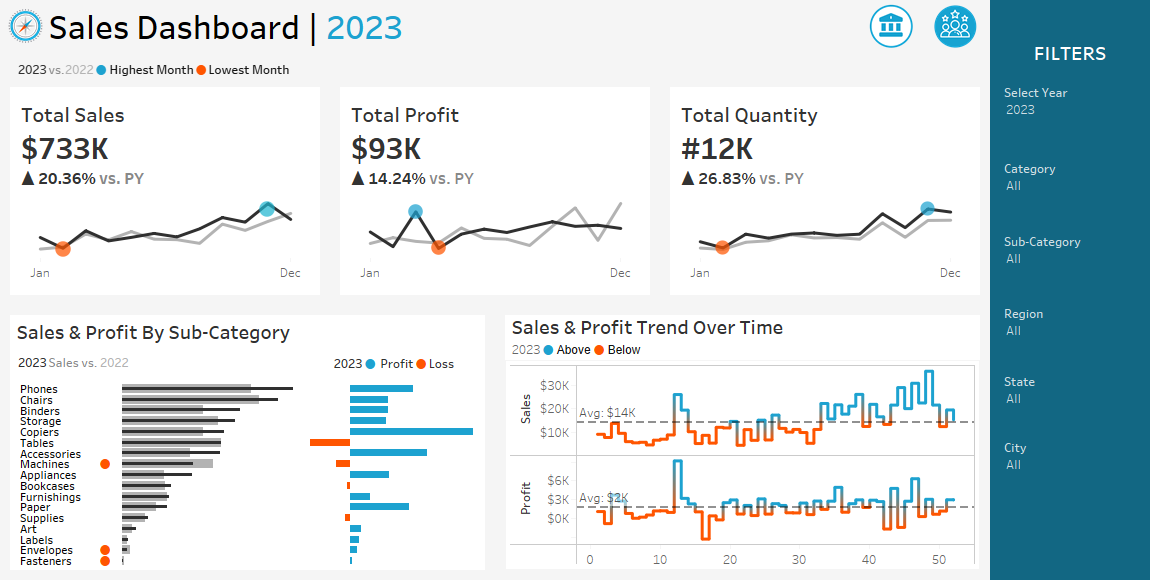

This screenshot's page, from the dashboard's own definition file:
{"tool":"tableau","page":{"name":"Sales Dashboard","canvas":[1150,580],"ordinal":1},"visuals":[{"type":"image","param":"Image/Icon - Logo.png","box":[0,0,46,52]},{"type":"text","box":[46,0,600,52]},{"type":"dashboard-object","box":[862,0,58,52]},{"type":"dashboard-object","box":[920,0,70,52]},{"type":"blank","box":[990,0,160,35]},{"type":"text","box":[990,35,160,35]},{"type":"worksheet","title":"Legend KPI","mark":"Automatic","box":[0,52,990,35]},{"type":"parameter","param":"[Parameters].[Parameter 1]","box":[990,70,160,76]},{"type":"worksheet","title":"KPI Sales","mark":"Automatic","rows":["Calculation_23362452457148420"],"cols":["Order Date"],"box":[0,87,330,218]},{"type":"worksheet","title":"KPI Profit ","mark":"Automatic","rows":["Min/Max Sales (copy)_23362452468887564"],"cols":["Order Date"],"box":[330,87,330,218]},{"type":"worksheet","title":"KPI Quantity","mark":"Automatic","rows":["Min/Max Profit (copy)_23362452479102997"],"cols":["Order Date"],"box":[660,87,330,218]},{"type":"filter","title":"KPI Sales","param":"[federated.1sb4pbu0m9st3e12z6h270u2c01k].[none:Category:nk]","box":[990,146,160,73]},{"type":"filter","title":"KPI Sales","param":"[federated.1sb4pbu0m9st3e12z6h270u2c01k].[none:Sub-Category:nk]","box":[990,219,160,72]},{"type":"filter","title":"KPI Sales","param":"[federated.1sb4pbu0m9st3e12z6h270u2c01k].[none:Region:nk]","box":[990,291,160,68]},{"type":"text","box":[10,315,475,32]},{"type":"text","box":[505,315,475,22.7]},{"type":"text","box":[505,337.7,475,22.7]},{"type":"worksheet","title":"Legend Sub-Category","mark":"Automatic","box":[10,347,317,32]},{"type":"text","box":[327,347,158,32]},{"type":"filter","title":"KPI Sales","param":"[federated.1sb4pbu0m9st3e12z6h270u2c01k].[none:State:nk]","box":[990,359,160,76]},{"type":"worksheet","title":"Weekly Trends","mark":"Automatic","rows":["Calculation_23362452448505856","Calculation_23362452466098185"],"cols":["Order Date"],"box":[506,361.5,473,207.5]},{"type":"worksheet","title":"Sub-Category Comparison","mark":"Bar","rows":["Sub-Category","Calculation_623748577993551872"],"cols":["CY Sales (copy)_23362452448571393","Calculation_23362452448505856","Calculation_23362452466098185"],"box":[10,379,475,191]},{"type":"filter","title":"KPI Sales","param":"[federated.1sb4pbu0m9st3e12z6h270u2c01k].[none:City:nk]","box":[990,435,160,67]}]}

Visuals, with their boxes in screenshot pixels (x1, y1, x2, y2), scaled from the page's 1150x580 canvas onto the 1150x580 screenshot:
image: bbox=[0, 0, 46, 52]
text: bbox=[46, 0, 646, 52]
dashboard-object: bbox=[862, 0, 920, 52]
dashboard-object: bbox=[920, 0, 990, 52]
blank: bbox=[990, 0, 1149, 35]
text: bbox=[990, 35, 1149, 70]
"Legend KPI" worksheet: bbox=[0, 52, 990, 87]
parameter: bbox=[990, 70, 1149, 146]
"KPI Sales" worksheet: bbox=[0, 87, 330, 305]
"KPI Profit " worksheet: bbox=[330, 87, 660, 305]
"KPI Quantity" worksheet: bbox=[660, 87, 990, 305]
"KPI Sales" filter: bbox=[990, 146, 1149, 219]
"KPI Sales" filter: bbox=[990, 219, 1149, 291]
"KPI Sales" filter: bbox=[990, 291, 1149, 359]
text: bbox=[10, 315, 485, 347]
text: bbox=[505, 315, 980, 338]
text: bbox=[505, 338, 980, 360]
"Legend Sub-Category" worksheet: bbox=[10, 347, 327, 379]
text: bbox=[327, 347, 485, 379]
"KPI Sales" filter: bbox=[990, 359, 1149, 435]
"Weekly Trends" worksheet: bbox=[506, 362, 979, 569]
"Sub-Category Comparison" worksheet (Bar marks): bbox=[10, 379, 485, 570]
"KPI Sales" filter: bbox=[990, 435, 1149, 502]
